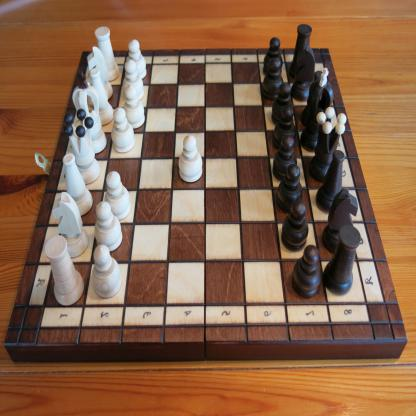black-bishop: (314, 148, 350, 212)
black-king: (301, 66, 335, 152)
black-knight: (320, 186, 359, 246), (292, 46, 315, 98)
black-pawn: (290, 243, 323, 298), (280, 199, 309, 250), (276, 163, 308, 209), (272, 135, 300, 179), (272, 108, 298, 150), (260, 58, 285, 99), (271, 84, 296, 124), (262, 36, 283, 71)
black-queen: (309, 105, 347, 181)
black-rook: (324, 227, 361, 296), (288, 22, 314, 76)
white-bishop: (59, 150, 93, 214), (88, 67, 113, 128)
white-king: (72, 68, 106, 154)
white-knight: (49, 192, 88, 260), (83, 45, 114, 99)
white-pawn: (90, 246, 122, 299), (94, 199, 123, 254), (176, 133, 204, 185), (104, 170, 131, 220), (110, 107, 136, 156), (122, 83, 146, 130), (124, 38, 147, 79), (121, 60, 144, 98)
white-queen: (62, 106, 101, 185)
white-rook: (42, 234, 85, 307), (93, 21, 119, 81)
